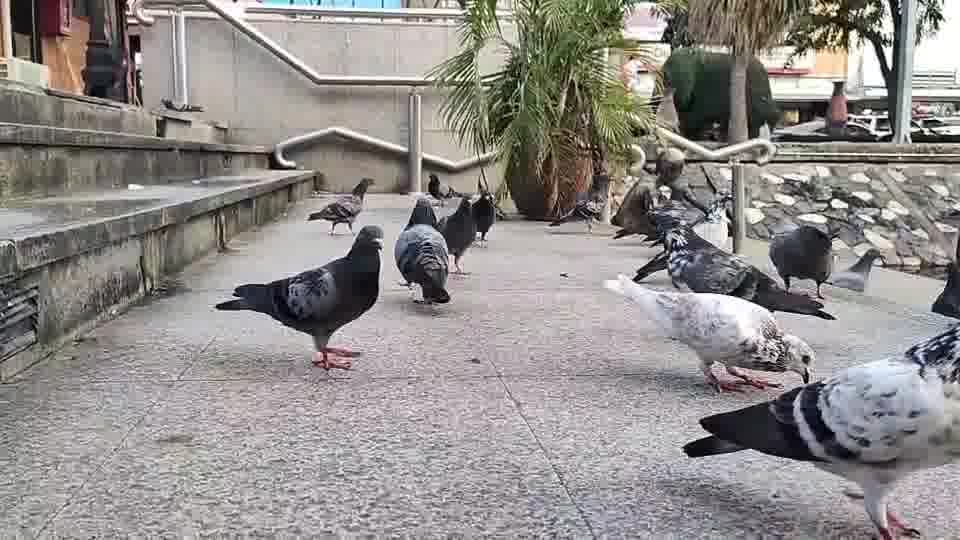Pigeon: (681, 322, 959, 539), (602, 271, 816, 394), (214, 223, 385, 371), (634, 220, 838, 321), (393, 197, 451, 305), (767, 222, 838, 300), (306, 176, 375, 235), (544, 173, 610, 234), (436, 196, 475, 274), (826, 247, 887, 293), (930, 259, 959, 319)
